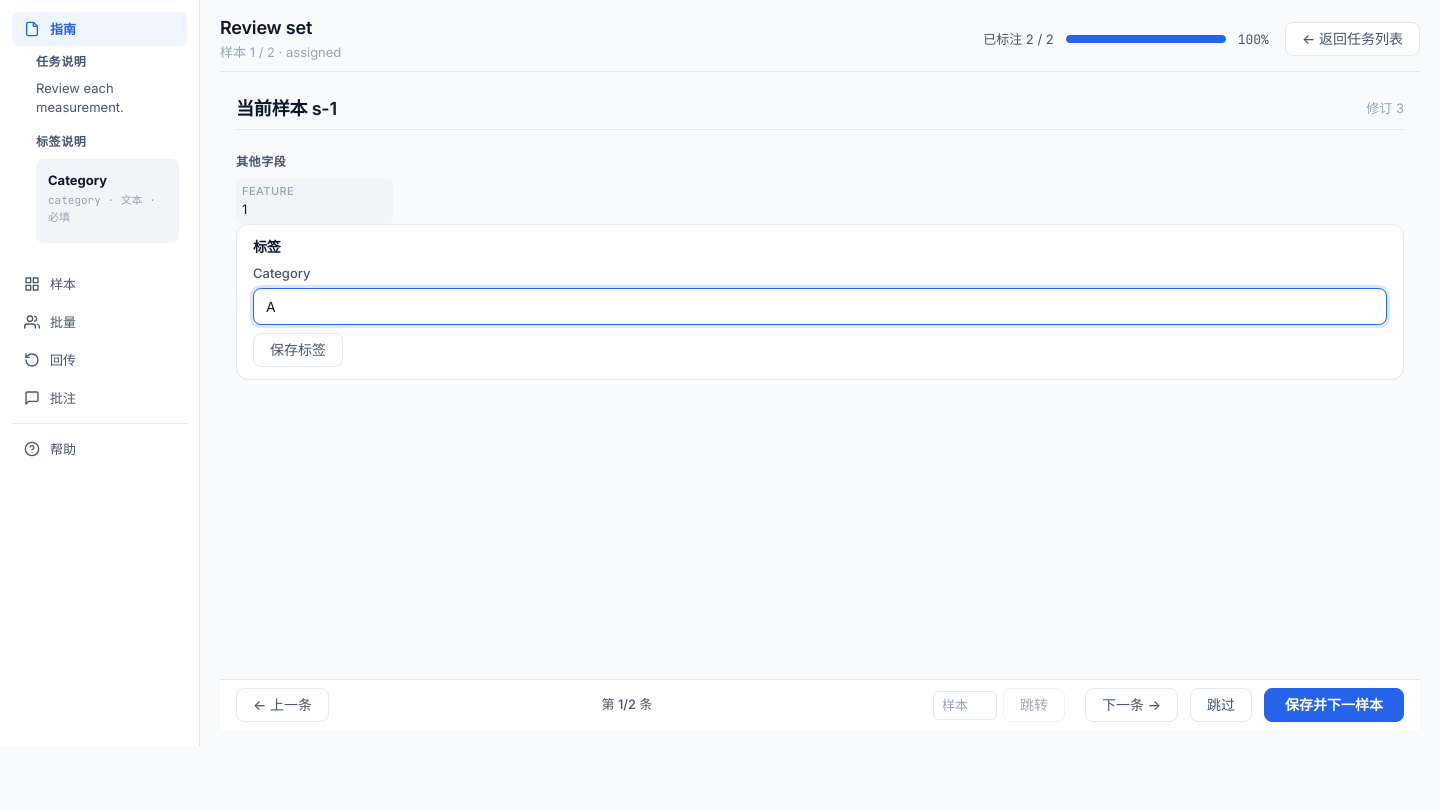
Scenario: TaskWorkspacePage › loads and creates a sample-scoped comment
Check: the field named "category-s-1" is shown, box [253, 288, 1387, 325]
Click the tab "批注".
click(100, 398)  # box [12, 381, 187, 415]
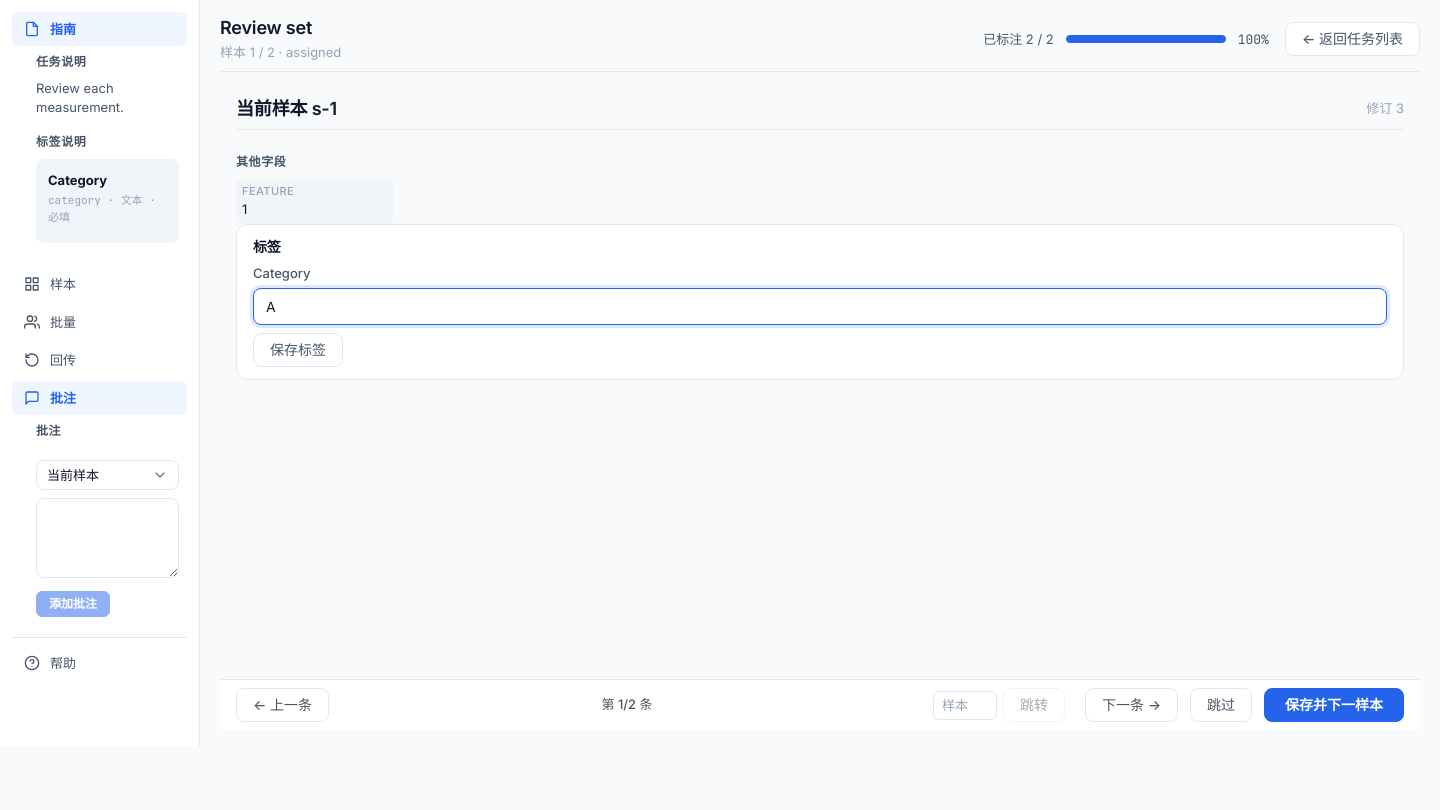
Type "检查焊点" into the text box named "新增批注".
click(108, 538); type("检查焊点")  # box [36, 498, 179, 578]
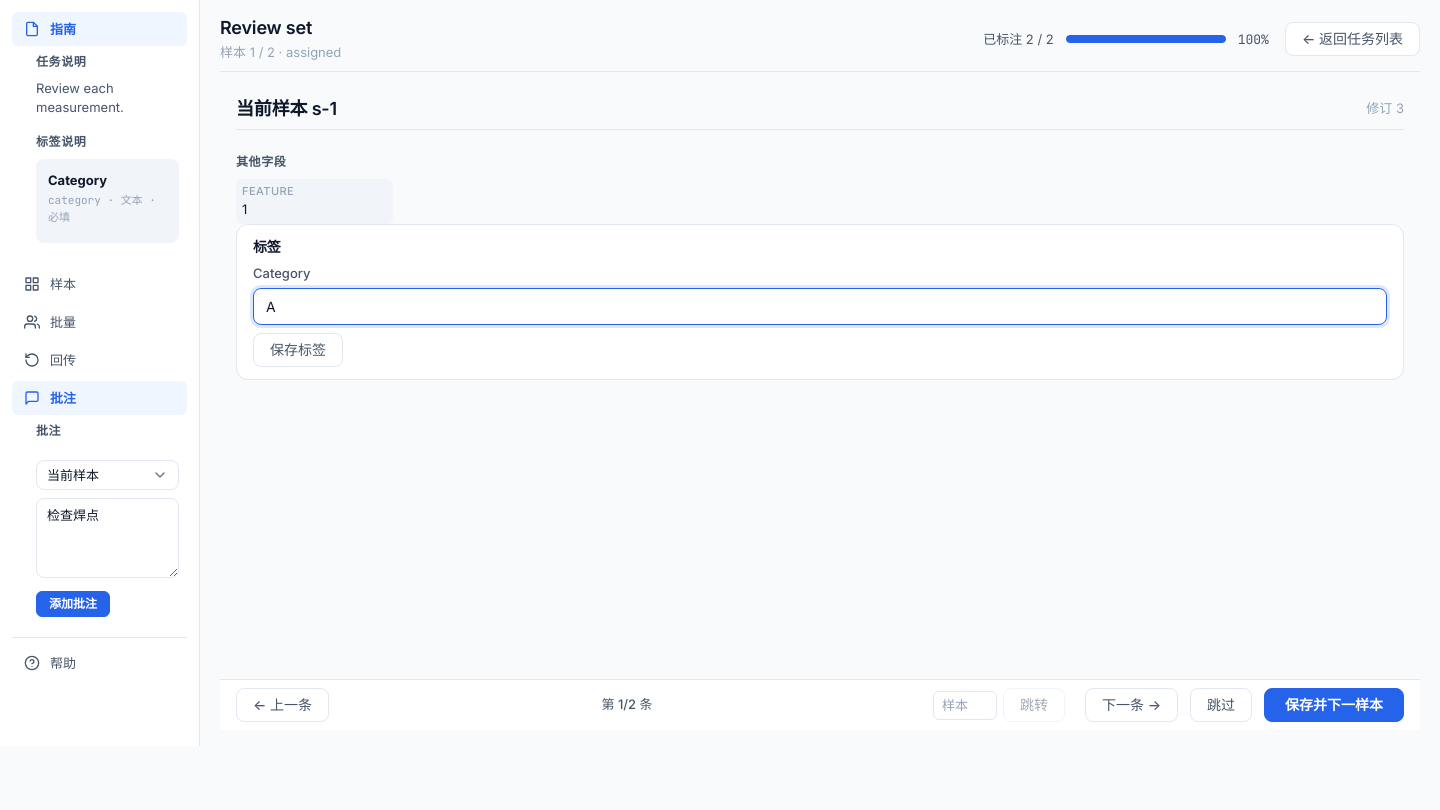
Click the button "添加批注".
click(73, 604)  # box [36, 591, 110, 617]
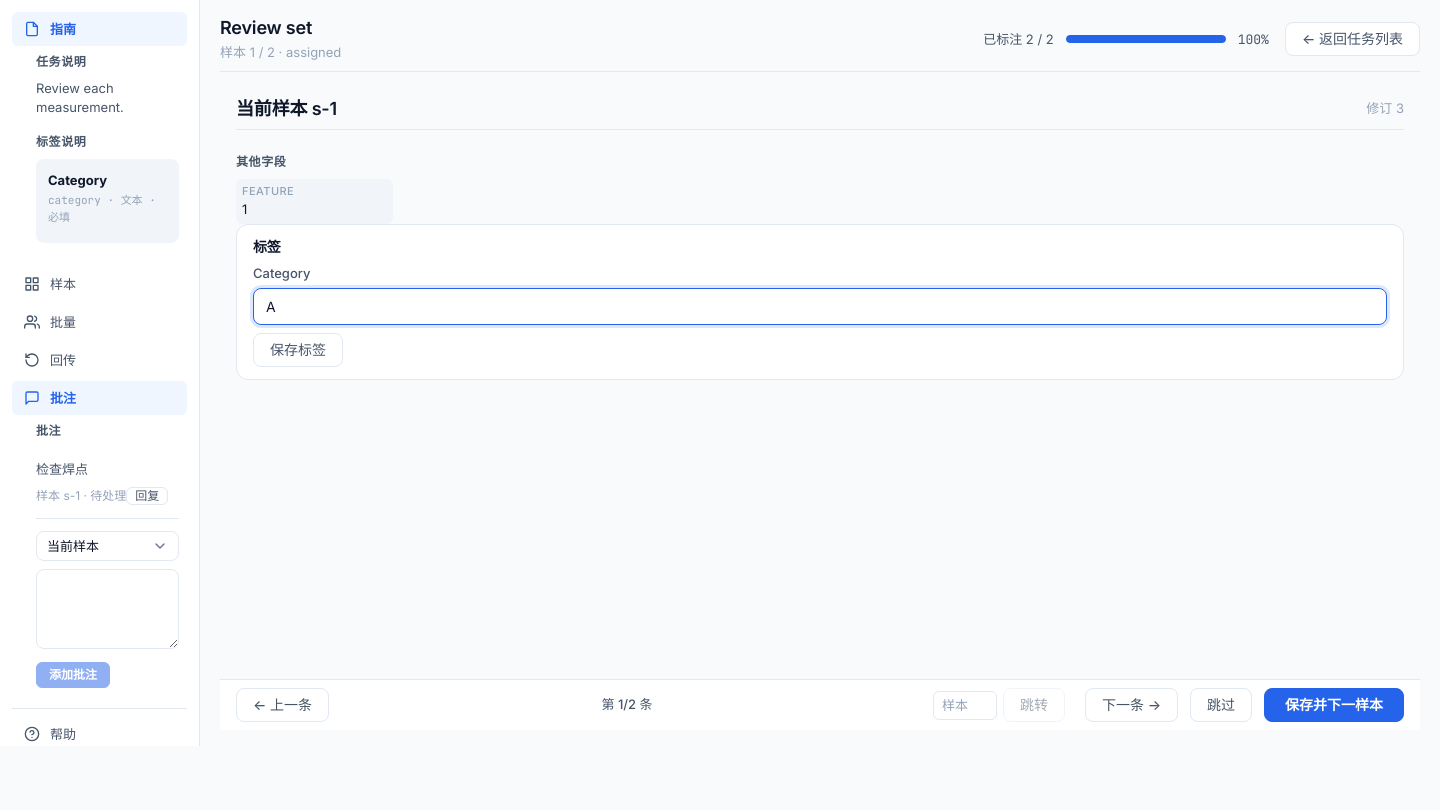
Check: the text "检查焊点" is shown, box [36, 461, 88, 477]
